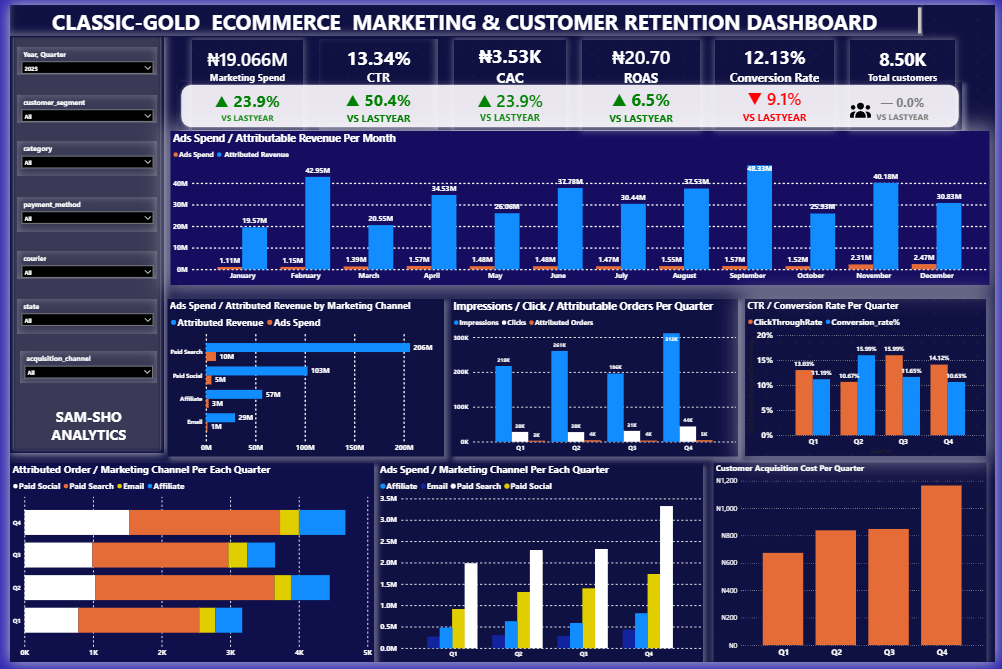

What the dashboard file says about the page in this screenshot:
{"tool":"powerbi","page":{"name":"MARKETING AND CUSTOMER RETENTION ","canvas":[2650,1500],"ordinal":3},"visuals":[{"type":"shape","box":[0,64,352,960],"z":0},{"type":"shape","box":[608,192,1792,112],"z":1000,"group":"g1"},{"type":"clusteredColumnChart","title":"Ads Spend / Attributable Revenue Per Month","fields":{"Category":["Calendar.Date.Variation.Date Hierarchy.Month"],"Y":["Sum(marketing_monthly.ad_spend_ngn)","Sum(marketing_monthly.attributed_revenue_ngn)"]},"box":[384,320,2240,320],"z":1000},{"type":"textbox","box":[-6,0,2656,96],"z":2000},{"type":"cardVisual","fields":{"Data":["marketing_monthly.Marketing_spend","marketing_monthly.MSG_Indicator"]},"box":[640,96,256,208],"z":2000,"group":"g1"},{"type":"cardVisual","fields":{"Data":["marketing_monthly.CAC","marketing_monthly.CAC_growthindicator"]},"box":[1238.4,96,256,208],"z":3000,"group":"g1"},{"type":"clusteredColumnChart","title":"Ads Spend / Marketing Channel Per Each Quarter","fields":{"Category":["Calendar.Quarter"],"Y":["Sum(marketing_monthly.ad_spend_ngn)"],"Series":["marketing_monthly.marketing_channel"]},"box":[1088,1056,832,416],"z":3000},{"type":"slicer","fields":{"Values":["Calendar.Year","Calendar.Quarter"]},"box":[16,96,320,64],"z":4000},{"type":"lineStackedColumnComboChart","title":"Customer Acquisition Cost  Per Quarter","fields":{"Category":["Calendar.Quarter"],"Y":["marketing_monthly.CAC"]},"box":[1952,1056,672,416],"z":5000},{"type":"cardVisual","fields":{"Data":["marketing_monthly.ROAS","marketing_monthly.ROAS_GROWTH_Indicator"]},"box":[1529.6,96,272,208],"z":6000,"group":"g1"},{"type":"slicer","fields":{"Values":["products.category"]},"box":[16,313.6,320,80],"z":6000},{"type":"barChart","title":"Attributed Order / Marketing Channel Per Each Quarter","fields":{"Category":["Calendar.Quarter"],"Y":["Sum(marketing_monthly.attributed_orders)"],"Series":["marketing_monthly.marketing_channel"]},"box":[32,1056,1024,416],"z":7000},{"type":"cardVisual","fields":{"Data":["Calendar.Total customers","Calendar.customergrowthIndicator"]},"box":[2144,96,240,208],"z":8000,"group":"g1"},{"type":"slicer","fields":{"Values":["customers.customer_segment"]},"box":[16,204.8,320,64],"z":8000},{"type":"image","box":[2144,224,48,64],"z":9000,"group":"g1"},{"type":"slicer","fields":{"Values":["payments.payment_method"]},"box":[16,438.4,320,80],"z":9000},{"type":"clusteredColumnChart","title":"Impressions / Click / Attributable Orders Per Quarter","fields":{"Category":["Calendar.Quarter"],"Y":["Sum(marketing_monthly.impressions)","Sum(marketing_monthly.clicks)","Sum(marketing_monthly.attributed_orders)"]},"box":[1088,672,832,352],"z":10000},{"type":"cardVisual","fields":{"Data":["marketing_monthly.ClickThroughRate","marketing_monthly.CTRgrowth_Indicator"]},"box":[931.2,96,272,208],"z":11000,"group":"g1"},{"type":"slicer","fields":{"Values":["shipments.courier"]},"box":[16,563.2,320,64],"z":11000},{"type":"slicer","fields":{"Values":["customers.state"]},"box":[16,672,320,80],"z":12000},{"type":"slicer","fields":{"Values":["customers.acquisition_channel"]},"box":[24,792,312,72],"z":13000},{"type":"clusteredColumnChart","title":"CTR / Conversion Rate  Per Quarter","fields":{"Y":["marketing_monthly.ClickThroughRate","marketing_monthly.Conversion_rate%"],"Category":["Calendar.Quarter"]},"box":[1952,672,672,352],"z":14000},{"type":"clusteredBarChart","title":"Ads Spend / Attributed Revenue by Marketing Channel","fields":{"Category":["marketing_monthly.marketing_channel"],"Y":["Sum(marketing_monthly.attributed_revenue_ngn)","Sum(marketing_monthly.ad_spend_ngn)"]},"box":[384,672,672,352],"z":15000},{"type":"textbox","box":[24,912,312,120],"z":16000},{"type":"group","id":"g1","title":"Group 1","box":[608,96,1792,192],"z":17000},{"type":"cardVisual","fields":{"Data":["marketing_monthly.Conversion_rate%","marketing_monthly.CR_growthIndicator"]},"box":[1836.8,96,272,208],"z":23000,"group":"g1"}]}

Visuals, with their boxes on the page's 2650x1500 design canvas (x1, y1, x2, y2). These are canvas units, not pixel positions in the 1002x669 screenshot, which may show the page scaled, cropped or inside an application window:
shape: (0, 64, 352, 1024)
shape: (608, 192, 2400, 304)
"Ads Spend / Attributable Revenue Per Month" clusteredColumnChart: (384, 320, 2624, 640)
textbox: (-6, 0, 2650, 96)
cardVisual - marketing_monthly.Marketing_spend x marketing_monthly.MSG_Indicator: (640, 96, 896, 304)
cardVisual - marketing_monthly.CAC x marketing_monthly.CAC_growthindicator: (1238, 96, 1494, 304)
"Ads Spend / Marketing Channel Per Each Quarter" clusteredColumnChart: (1088, 1056, 1920, 1472)
slicer - Calendar.Year x Calendar.Quarter: (16, 96, 336, 160)
"Customer Acquisition Cost  Per Quarter" lineStackedColumnComboChart: (1952, 1056, 2624, 1472)
cardVisual - marketing_monthly.ROAS x marketing_monthly.ROAS_GROWTH_Indicator: (1530, 96, 1802, 304)
slicer - products.category: (16, 314, 336, 394)
"Attributed Order / Marketing Channel Per Each Quarter" barChart: (32, 1056, 1056, 1472)
cardVisual - Calendar.Total customers x Calendar.customergrowthIndicator: (2144, 96, 2384, 304)
slicer - customers.customer_segment: (16, 205, 336, 269)
image: (2144, 224, 2192, 288)
slicer - payments.payment_method: (16, 438, 336, 518)
"Impressions / Click / Attributable Orders Per Quarter" clusteredColumnChart: (1088, 672, 1920, 1024)
cardVisual - marketing_monthly.ClickThroughRate x marketing_monthly.CTRgrowth_Indicator: (931, 96, 1203, 304)
slicer - shipments.courier: (16, 563, 336, 627)
slicer - customers.state: (16, 672, 336, 752)
slicer - customers.acquisition_channel: (24, 792, 336, 864)
"CTR / Conversion Rate  Per Quarter" clusteredColumnChart: (1952, 672, 2624, 1024)
"Ads Spend / Attributed Revenue by Marketing Channel" clusteredBarChart: (384, 672, 1056, 1024)
textbox: (24, 912, 336, 1032)
"Group 1" group: (608, 96, 2400, 288)
cardVisual - marketing_monthly.Conversion_rate% x marketing_monthly.CR_growthIndicator: (1837, 96, 2109, 304)
